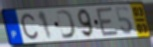1: (37, 10, 54, 42)
5: (114, 5, 135, 37)
9: (75, 8, 95, 39)
C: (20, 12, 40, 41)
D: (55, 9, 77, 40)
E: (94, 6, 121, 39)
